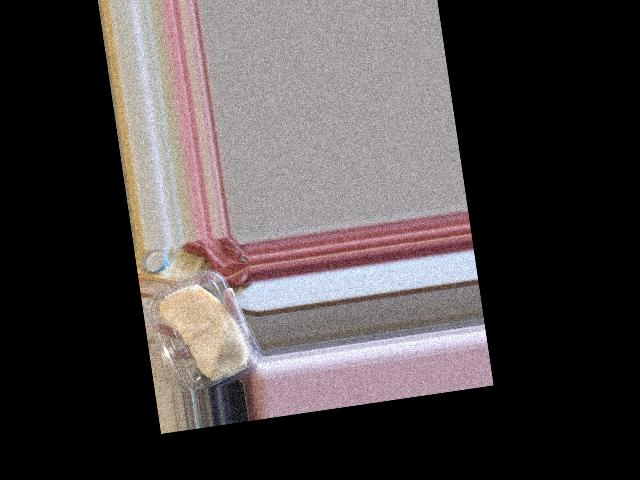cheese: (144, 262, 258, 395)
